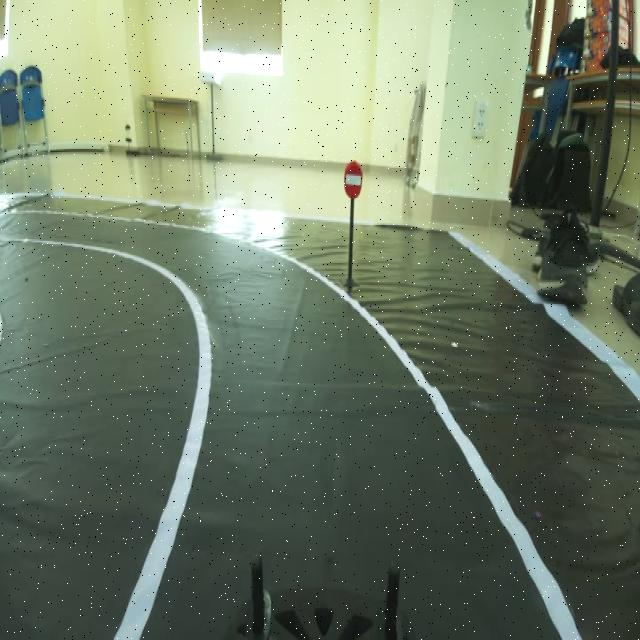no_entry: (342, 152, 363, 200)
